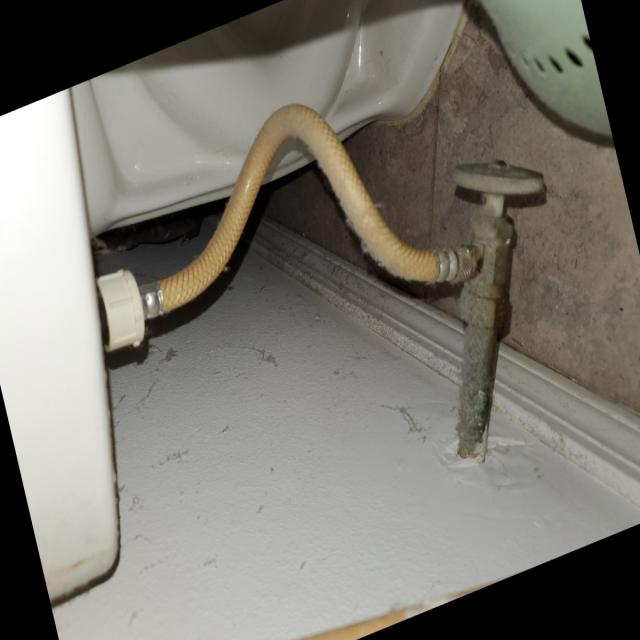good_coupler: (98, 265, 170, 347)
good_line: (175, 95, 426, 342)
rusty_valve: (442, 152, 548, 236)
